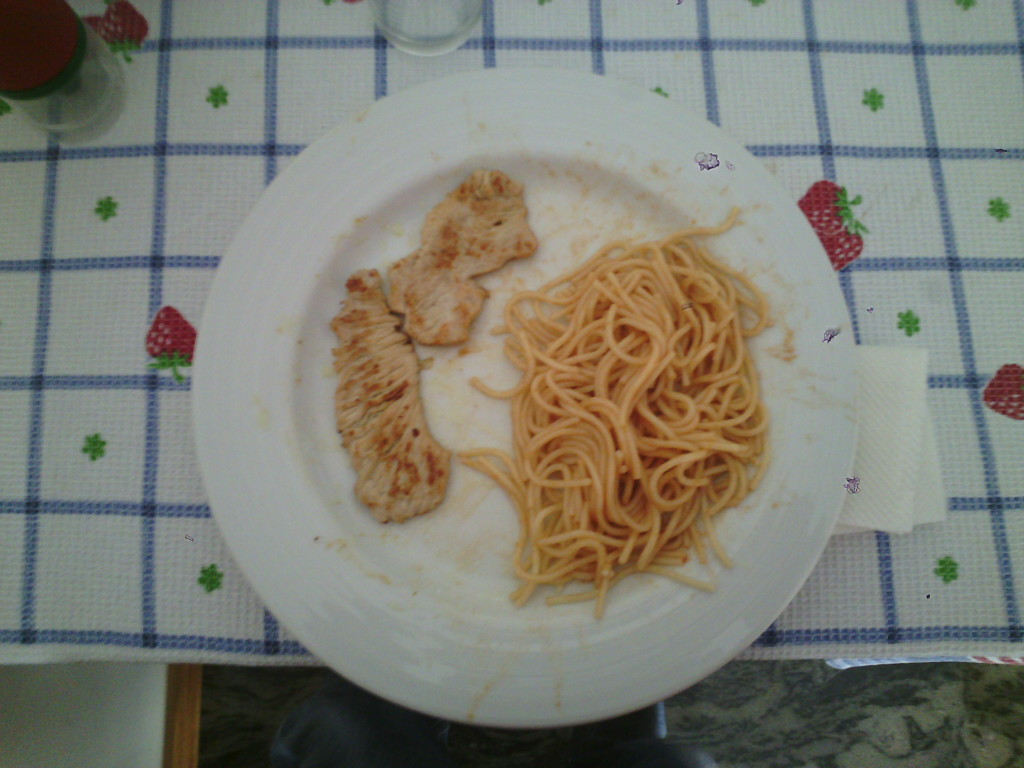61-80: (202, 71, 856, 724)
